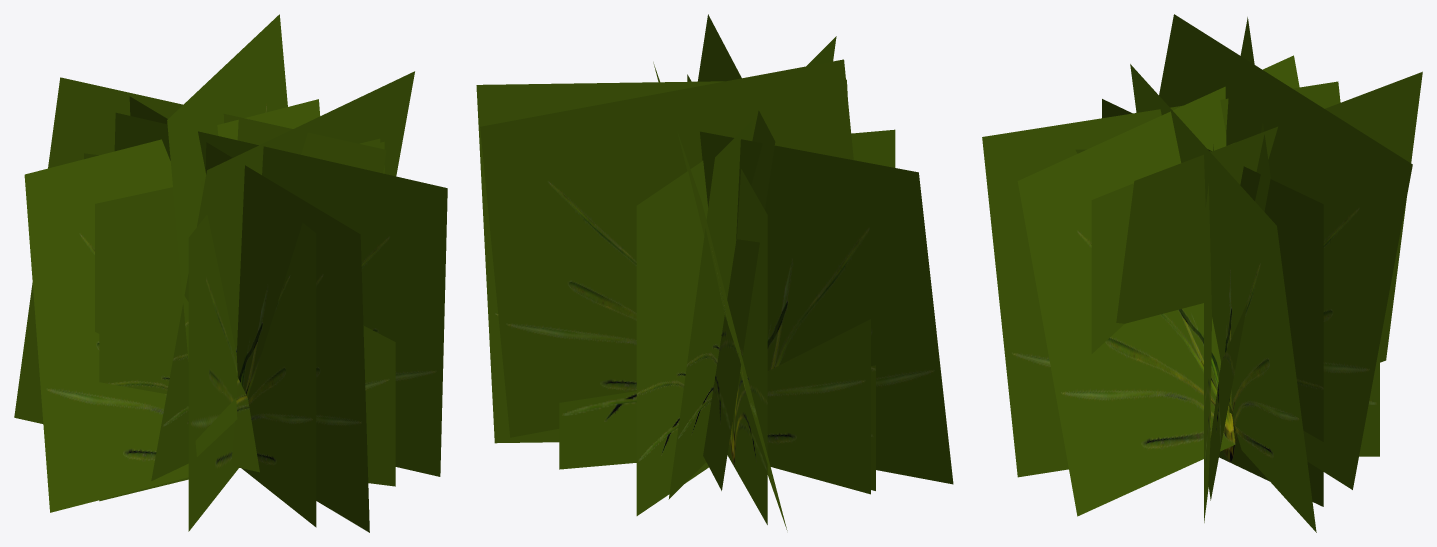
The model's file is gs_flower03.glb.
The picture shows the model from 3 angles, left to right: view 1: azimuth 30°, elevation 25°; view 2: azimuth 150°, elevation 25°; view 3: azimuth 270°, elevation 25°; orthographic projection. The views are drawn at different scales.
Parts seen in each view (by area): view 1: flower, grass; view 2: flower, grass; view 3: flower, grass.
Boxes of the visible parts, x1,y1,x2,y2 form: flower: [14, 14, 447, 532]; grass: [84, 138, 395, 531]; flower: [476, 14, 953, 530]; grass: [559, 74, 895, 524]; flower: [982, 14, 1422, 532]; grass: [1075, 99, 1379, 522].
Bounding box in the file's own units: 120 × 109 × 109.
Materials: 1 (1 with a texture image).
